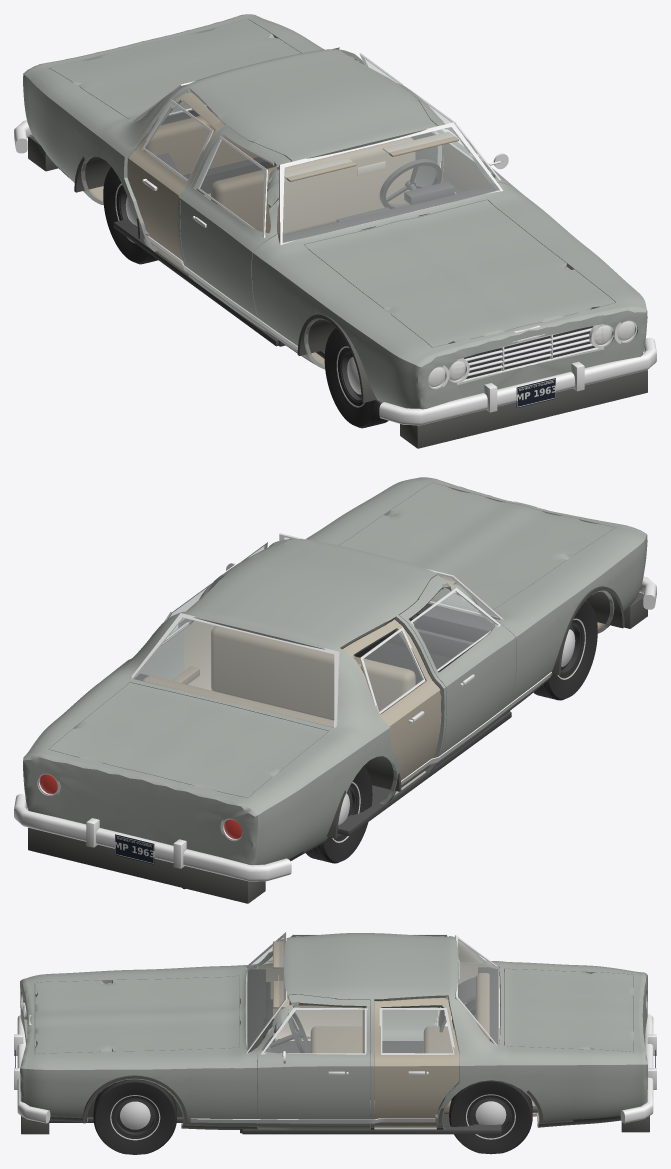
File: SM_V01_Sedan_Base_Neutral.glb
3 renders of one model, top to bottom at view 1: azimuth 30°, elevation 25°; view 2: azimuth 150°, elevation 25°; view 3: azimuth 270°, elevation 25°, orthographic. The views are drawn at different scales.
Visible parts, largest first — view 1: BODY, HOOD, GLASS_WINDSHIELD, TRUNK, INT_SEAT_FRONT, DOOR_FR, UNDER_AXLES_TANK, DOOR_RR, BUMPER_FRONT, GLASS_DOOR_FR, WHEEL_FR, INT_SEAT_REAR (+19 smaller); view 2: BODY, TRUNK, HOOD, GLASS_REAR, INT_SEAT_FRONT, DOOR_FR, UNDER_AXLES_TANK, DOOR_RR, BUMPER_REAR, INT_FLOOR, GLASS_DOOR_FR, INT_DASH (+12 smaller); view 3: BODY, HOOD, TRUNK, DOOR_FL, DOOR_RL, WHEEL_FL, WHEEL_RL, INT_FLOOR, GLASS_DOOR_FL, GLASS_DOOR_RL, GLASS_REAR, GLASS_WINDSHIELD (+16 smaller).
Boxes of the visible parts, bbox=[...] form: BODY: bbox=[23, 14, 647, 409]; HOOD: bbox=[304, 200, 615, 347]; GLASS_WINDSHIELD: bbox=[283, 127, 499, 242]; TRUNK: bbox=[49, 19, 300, 118]; INT_SEAT_FRONT: bbox=[211, 137, 415, 236]; DOOR_FR: bbox=[180, 126, 291, 331]; UNDER_AXLES_TANK: bbox=[28, 136, 647, 448]; DOOR_RR: bbox=[127, 88, 224, 273]; BUMPER_FRONT: bbox=[379, 337, 656, 425]; GLASS_DOOR_FR: bbox=[200, 139, 263, 231]; WHEEL_FR: bbox=[324, 328, 388, 428]; INT_SEAT_REAR: bbox=[140, 112, 257, 199]; BODY: bbox=[23, 477, 647, 865]; TRUNK: bbox=[49, 682, 328, 797]; HOOD: bbox=[339, 483, 615, 612]; GLASS_REAR: bbox=[133, 618, 333, 727]; INT_SEAT_FRONT: bbox=[211, 626, 441, 735]; DOOR_FR: bbox=[399, 575, 516, 768]; UNDER_AXLES_TANK: bbox=[28, 592, 647, 903]; DOOR_RR: bbox=[342, 619, 440, 799]; BUMPER_REAR: bbox=[14, 794, 291, 881]; INT_FLOOR: bbox=[134, 636, 511, 835]; GLASS_DOOR_FR: bbox=[413, 591, 497, 669]; INT_DASH: bbox=[363, 603, 492, 658]; BODY: bbox=[20, 933, 647, 1129]; HOOD: bbox=[35, 975, 239, 1054]; TRUNK: bbox=[504, 968, 633, 1051]; DOOR_FL: bbox=[256, 994, 370, 1129]; DOOR_RL: bbox=[374, 996, 459, 1129]; WHEEL_FL: bbox=[93, 1079, 176, 1154]; WHEEL_RL: bbox=[449, 1080, 532, 1154]; INT_FLOOR: bbox=[240, 967, 503, 1134]; GLASS_DOOR_FL: bbox=[264, 1010, 364, 1052]; GLASS_DOOR_RL: bbox=[382, 1010, 452, 1052]; GLASS_REAR: bbox=[458, 939, 498, 1044]; GLASS_WINDSHIELD: bbox=[247, 937, 283, 1049].
Size of what is drawn, in the model's own units: 2.18 by 1.43 by 5.46.
Materials: 15 (1 with a texture image).
